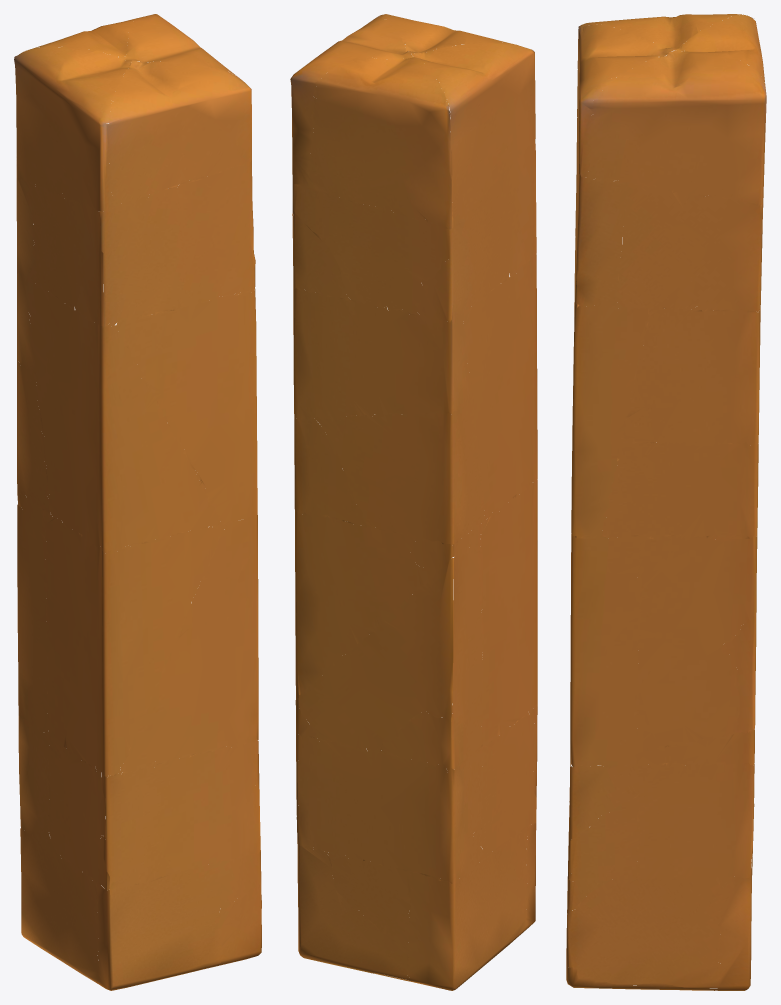
Rendered from 기둥_light.glb.
3 renders of one model, left to right at view 1: azimuth 30°, elevation 25°; view 2: azimuth 150°, elevation 25°; view 3: azimuth 270°, elevation 25°, orthographic. The views are drawn at different scales.
Visible parts, largest first — view 1: tripo_node_023137a6-0bb3-4836-b8a3-a85e1b3dcda7_web; view 2: tripo_node_023137a6-0bb3-4836-b8a3-a85e1b3dcda7_web; view 3: tripo_node_023137a6-0bb3-4836-b8a3-a85e1b3dcda7_web.
Boxes of the visible parts, box(x1,y1,x2,y2) form: tripo_node_023137a6-0bb3-4836-b8a3-a85e1b3dcda7_web: box(14, 14, 261, 990); tripo_node_023137a6-0bb3-4836-b8a3-a85e1b3dcda7_web: box(290, 14, 537, 990); tripo_node_023137a6-0bb3-4836-b8a3-a85e1b3dcda7_web: box(566, 14, 766, 990).
Bounding box in the file's own units: 0.1845 × 0.9997 × 0.199.
Materials: 1 (1 with a texture image).
